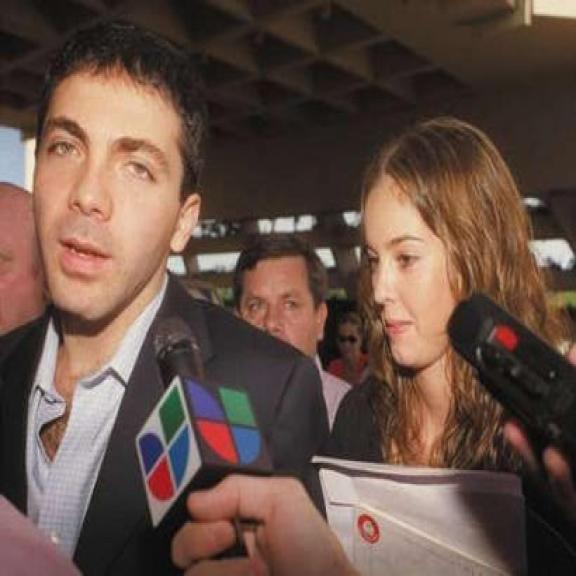face: (34, 74, 198, 314), (365, 182, 463, 375), (237, 259, 331, 362), (335, 317, 363, 365)
